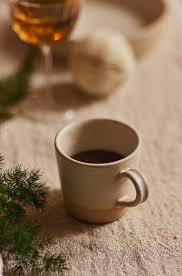mug: (49, 118, 158, 224)
